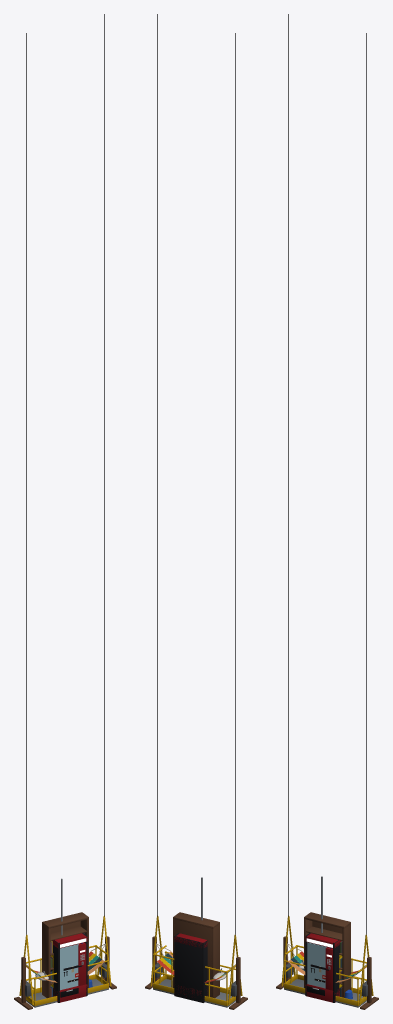
Rendered from accessoires-v01.glb.
3 renders of one model, left to right at view 1: azimuth 30°, elevation 25°; view 2: azimuth 150°, elevation 25°; view 3: azimuth 330°, elevation 25°, orthographic.
Visible parts, largest first — view 1: Câble 1, Câble -1, Distributeur vitre, Montant -1, Distributeur flanc -1, Chapeau, Distributeur colonne, Distributeur socle, Plancher; view 2: Distributeur dos, Fond, Câble 1, Câble -1, Montant -1, Chapeau, Distributeur flanc -1, Distributeur dessus, Plancher; view 3: Câble 1, Câble -1, Distributeur vitre, Montant 1, Distributeur flanc 1, Chapeau, Distributeur colonne, Distributeur socle, Plancher.
Part boxes in pixels (x1,y1,x2,y2): Câble 1: (104,14,104,916); Câble -1: (26,33,26,935); Distributeur vitre: (60,944,78,990); Montant -1: (42,922,50,998); Distributeur flanc -1: (53,940,59,1002); Chapeau: (42,912,88,928); Distributeur colonne: (78,942,86,985); Distributeur socle: (53,984,87,1002); Plancher: (26,979,108,1007); Distributeur dos: (174,936,204,1002); Fond: (174,917,212,997); Câble 1: (157,14,157,916); Câble -1: (235,33,235,935); Montant -1: (211,922,219,998); Chapeau: (173,912,219,928); Distributeur flanc -1: (202,940,207,1002); Distributeur dessus: (174,933,207,947); Plancher: (153,979,235,1007); Câble 1: (366,33,366,935); Câble -1: (288,14,288,916); Distributeur vitre: (307,942,326,988); Montant 1: (342,922,350,997); Distributeur flanc 1: (333,940,341,1002); Chapeau: (304,912,350,928); Distributeur colonne: (325,947,332,990); Distributeur socle: (305,984,339,1002); Plancher: (284,979,366,1007).
Bounding box in the file's own units: 2.86 × 29.9 × 0.875.
